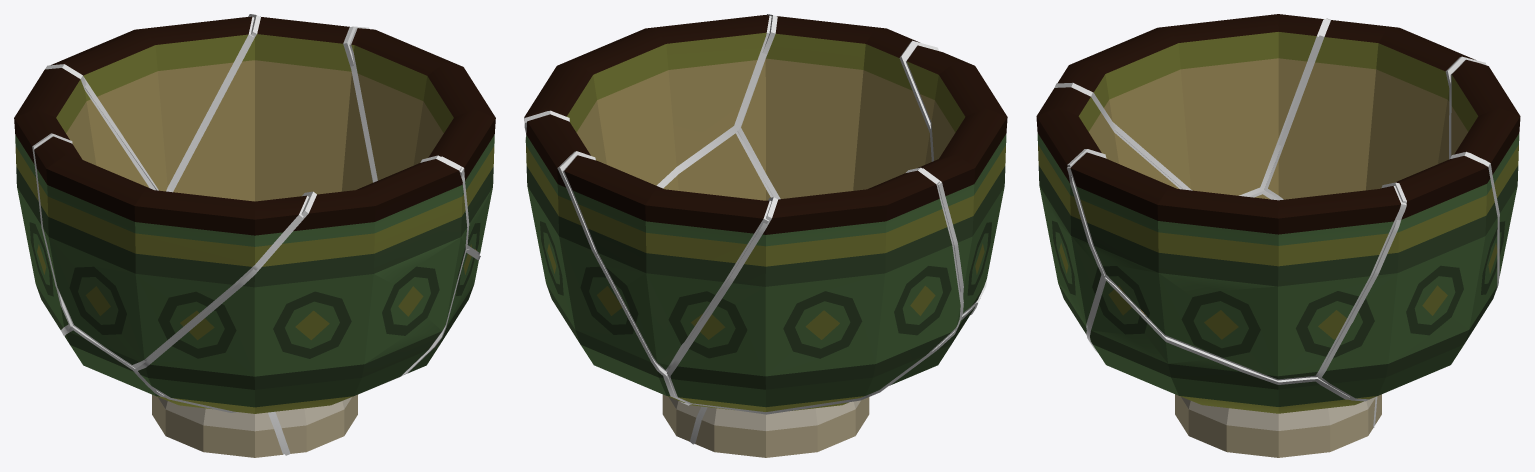
File: v20_green.fbx
The picture shows the model from 3 angles, left to right: view 1: azimuth 30°, elevation 25°; view 2: azimuth 150°, elevation 25°; view 3: azimuth 270°, elevation 25°; orthographic projection.
Parts seen in each view (by area): view 1: shard6, shard7, shard2, shard1, shard3, shard8, shard5, shard4, gold6, gold1, gold7, gold8 (+4 smaller); view 2: shard8, shard6, shard3, shard1, shard2, shard7, shard5, shard4, gold8, gold6, gold2, gold3 (+2 smaller); view 3: shard3, shard7, shard2, shard8, shard4, shard6, shard1, gold2, gold4, gold6, gold7, gold3 (+1 smaller).
Part boxes in pixels (bbox=[...]): shard6: bbox=[138, 159, 467, 413]; shard7: bbox=[34, 136, 306, 364]; shard2: bbox=[173, 16, 372, 201]; shard1: bbox=[51, 16, 252, 191]; shard3: bbox=[351, 28, 495, 252]; shard8: bbox=[14, 68, 149, 329]; shard5: bbox=[64, 330, 282, 457]; shard4: bbox=[275, 252, 478, 453]; gold6: bbox=[134, 155, 469, 412]; gold1: bbox=[84, 17, 254, 191]; gold7: bbox=[32, 136, 308, 367]; gold8: bbox=[32, 64, 155, 335]; shard8: bbox=[670, 170, 960, 411]; shard6: bbox=[741, 16, 931, 198]; shard3: bbox=[524, 15, 769, 185]; shard1: bbox=[564, 155, 769, 369]; shard2: bbox=[525, 114, 684, 402]; shard7: bbox=[906, 45, 1007, 312]; shard5: bbox=[690, 307, 974, 457]; shard4: bbox=[662, 133, 770, 441]; gold8: bbox=[666, 167, 963, 414]; gold6: bbox=[737, 14, 986, 314]; gold2: bbox=[525, 110, 689, 405]; gold3: bbox=[524, 16, 771, 188]; shard3: bbox=[1070, 152, 1400, 379]; shard7: bbox=[1057, 14, 1323, 195]; shard2: bbox=[1322, 156, 1497, 399]; shard8: bbox=[1268, 20, 1475, 199]; shard4: bbox=[1090, 281, 1375, 457]; shard6: bbox=[1036, 87, 1179, 334]; shard1: bbox=[1451, 59, 1520, 275]; gold2: bbox=[1318, 151, 1499, 401]; gold4: bbox=[1086, 277, 1375, 428]; gold6: bbox=[1054, 82, 1182, 329]; gold7: bbox=[1080, 19, 1325, 196]; gold3: bbox=[1067, 152, 1406, 380].
Bounding box in the file's own units: 10.85 × 7.7 × 10.85.
